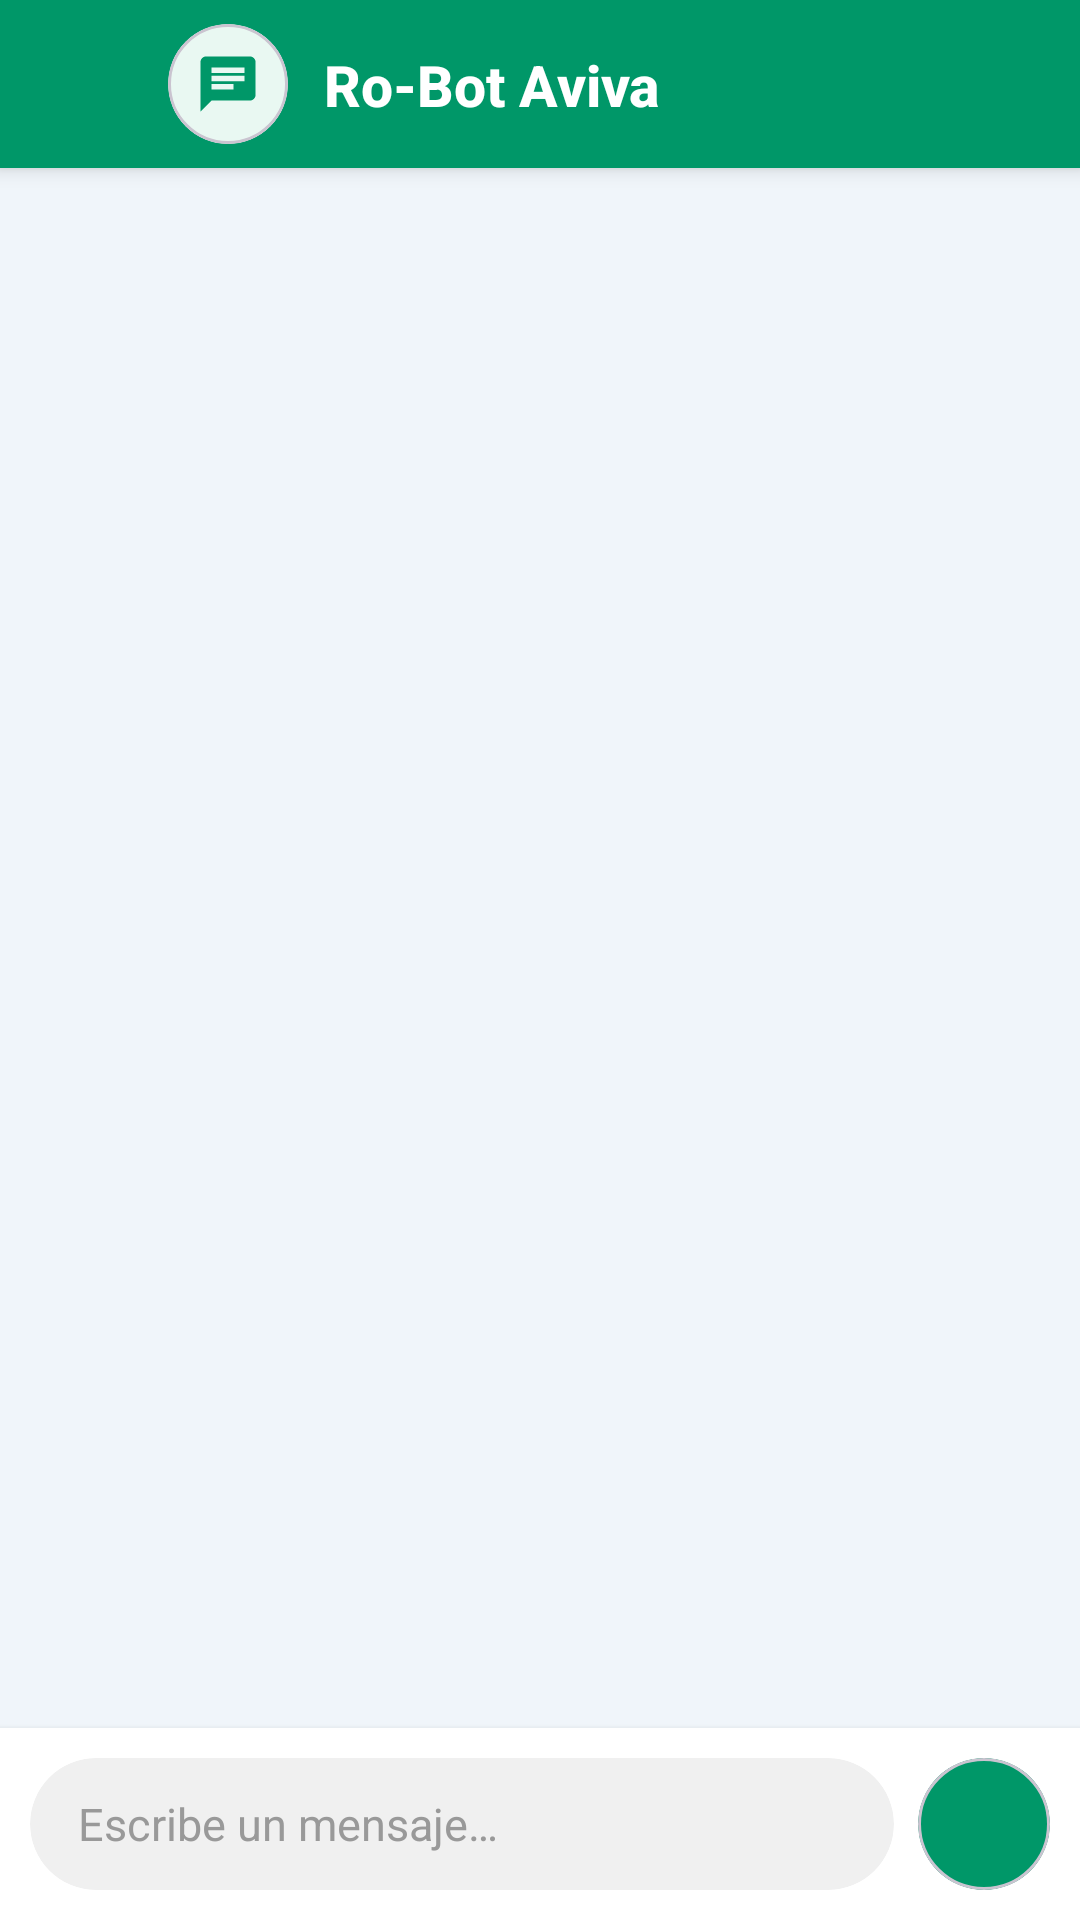

Where icons sit on this 1080 x 1920 app screen, as [x1, y1, x2, y2]:
chat: [200, 56, 256, 112]
